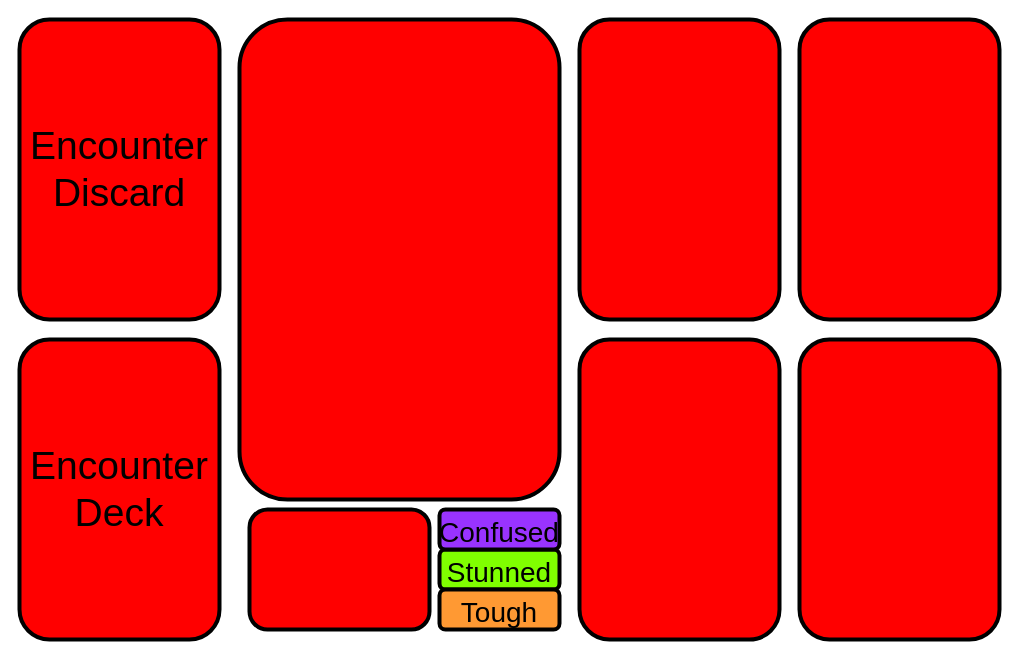
Some shapes in this 1018 by 658 pixel diagram are drawn without their labels. Here are the shapes that lost their labels. From the top down, the box of each, then its label:
(237, 17, 561, 501): VillaIn
(247, 507, 431, 631): Life Counter
